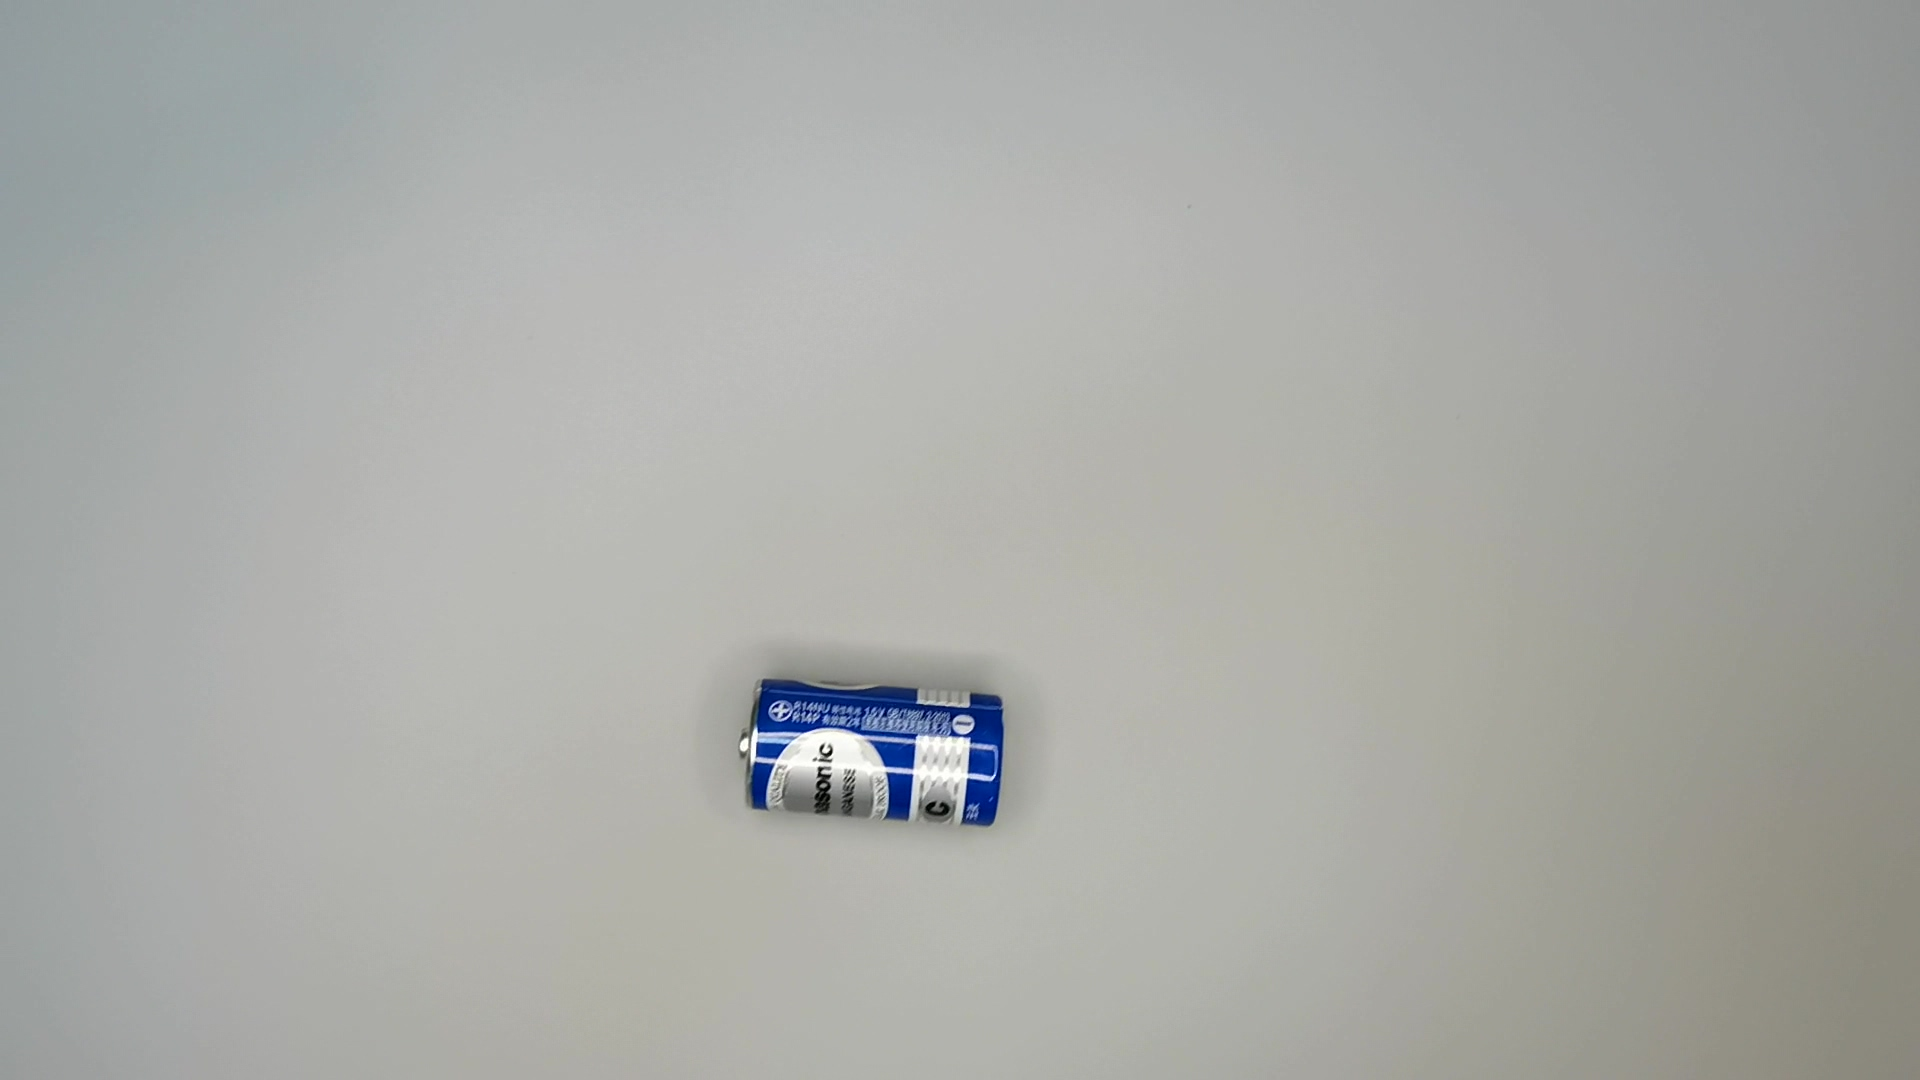battery: (723, 675, 1019, 835)
